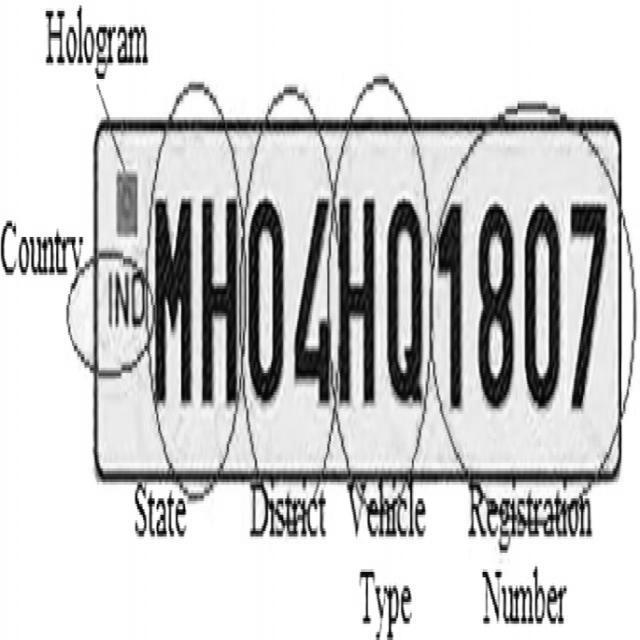License_Plate: (92, 116, 630, 478)
